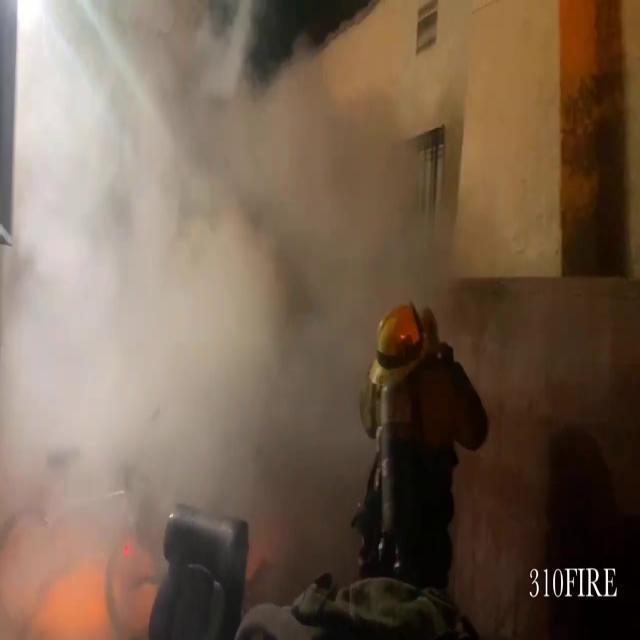Smoke: (0, 1, 606, 626)
